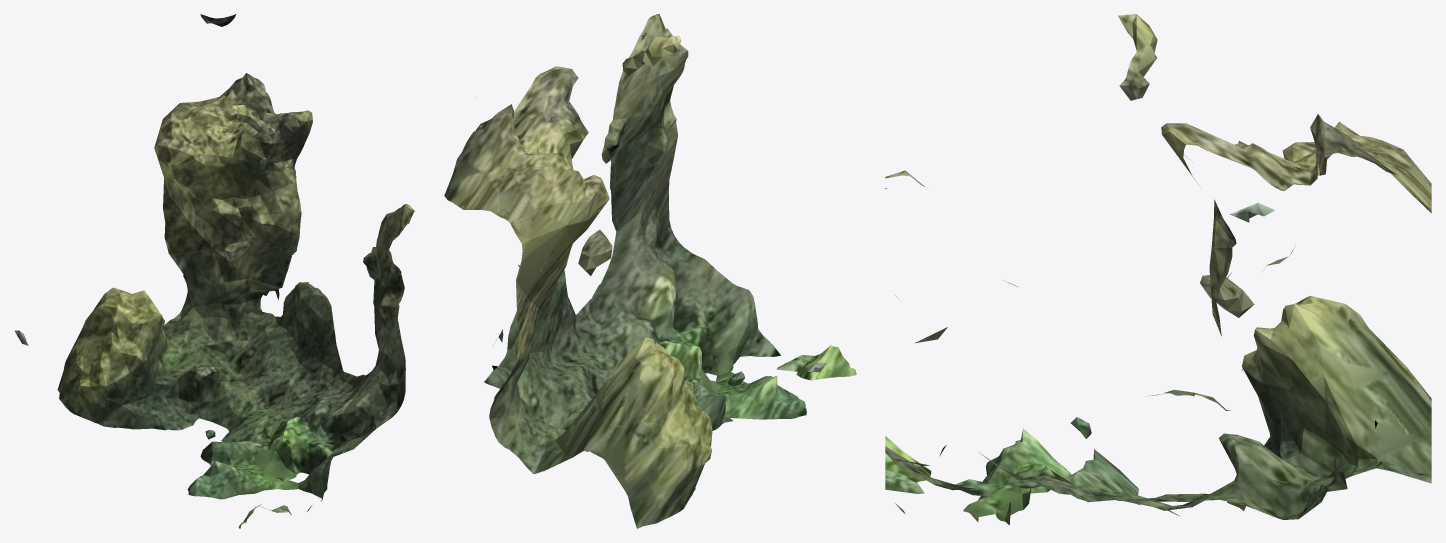
The picture shows the model from 3 angles, left to right: view 1: azimuth 30°, elevation 25°; view 2: azimuth 150°, elevation 25°; view 3: azimuth 270°, elevation 25°; orthographic projection. The views are drawn at different scales.
Bounding box in the file's own units: 9.71 × 11.8 × 11.8.
3 materials, 3 textured.
